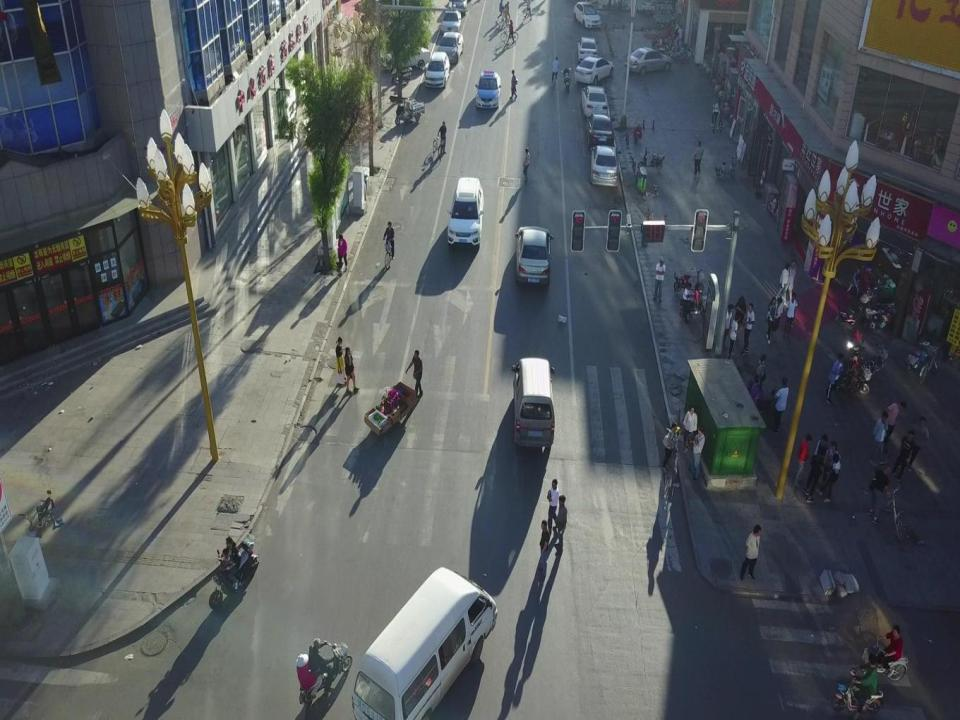car: (446, 176, 484, 246), (514, 226, 554, 285), (379, 40, 430, 72), (624, 46, 672, 74), (590, 144, 622, 186), (574, 56, 615, 86), (585, 113, 615, 151), (474, 69, 501, 108), (424, 52, 450, 88), (436, 30, 464, 63), (581, 86, 609, 118), (572, 1, 602, 29), (440, 7, 461, 35), (576, 36, 598, 62)
van: (353, 566, 498, 719), (510, 358, 554, 448)
